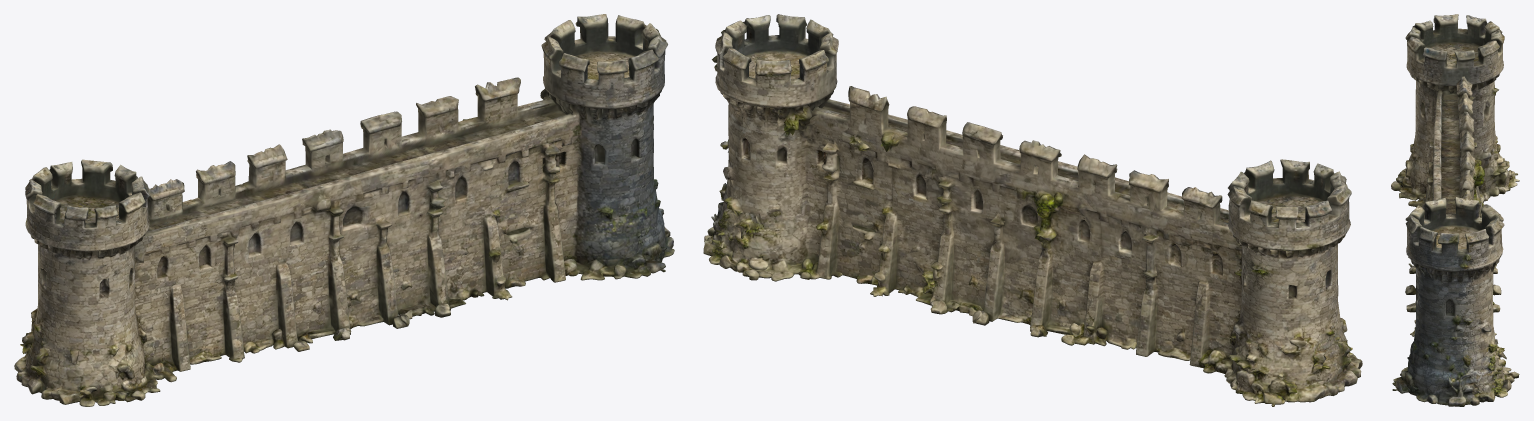
Rendered from fort_meadow_wall.glb.
3 renders of one model, left to right at view 1: azimuth 30°, elevation 25°; view 2: azimuth 150°, elevation 25°; view 3: azimuth 270°, elevation 25°, orthographic. The views are drawn at different scales.
Parts seen in each view (by area): view 1: tripo_node_a20cb5ca-6842-42f1-a8dd-e3fd79b3c925; view 2: tripo_node_a20cb5ca-6842-42f1-a8dd-e3fd79b3c925; view 3: tripo_node_a20cb5ca-6842-42f1-a8dd-e3fd79b3c925.
Boxes of the visible parts, x1=… form: tripo_node_a20cb5ca-6842-42f1-a8dd-e3fd79b3c925: x1=14, y1=14, x2=674, y2=406; tripo_node_a20cb5ca-6842-42f1-a8dd-e3fd79b3c925: x1=703, y1=14, x2=1362, y2=406; tripo_node_a20cb5ca-6842-42f1-a8dd-e3fd79b3c925: x1=1391, y1=14, x2=1519, y2=406.
Bounding box in the file's own units: 1 × 0.317 × 0.2199.
1 material, 1 textured.
